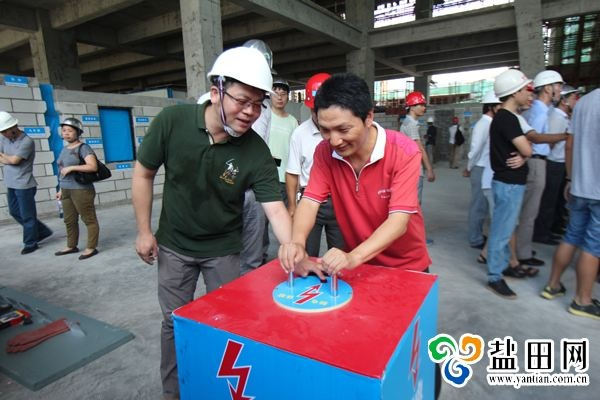blue: (267, 74, 291, 112), (58, 115, 84, 146)
none: (314, 73, 373, 159)
red: (302, 72, 332, 131), (402, 91, 428, 118)
white: (208, 44, 268, 137), (495, 65, 532, 110), (531, 65, 561, 105), (1, 107, 21, 141), (424, 115, 434, 126)
